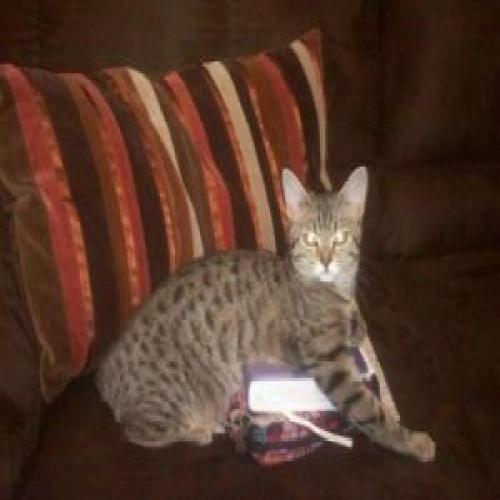bengal: (279, 162, 373, 294)
